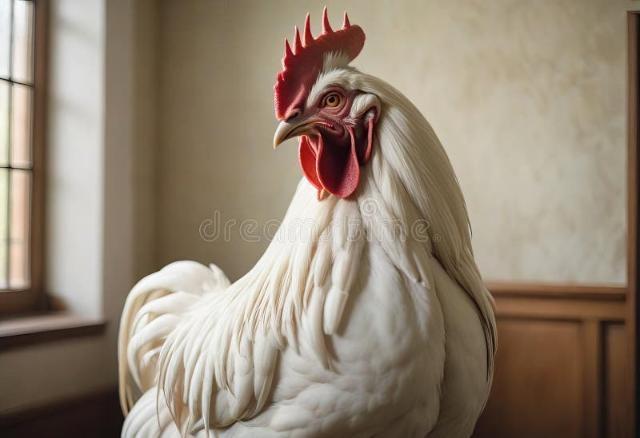Chicken: (116, 6, 498, 438)
